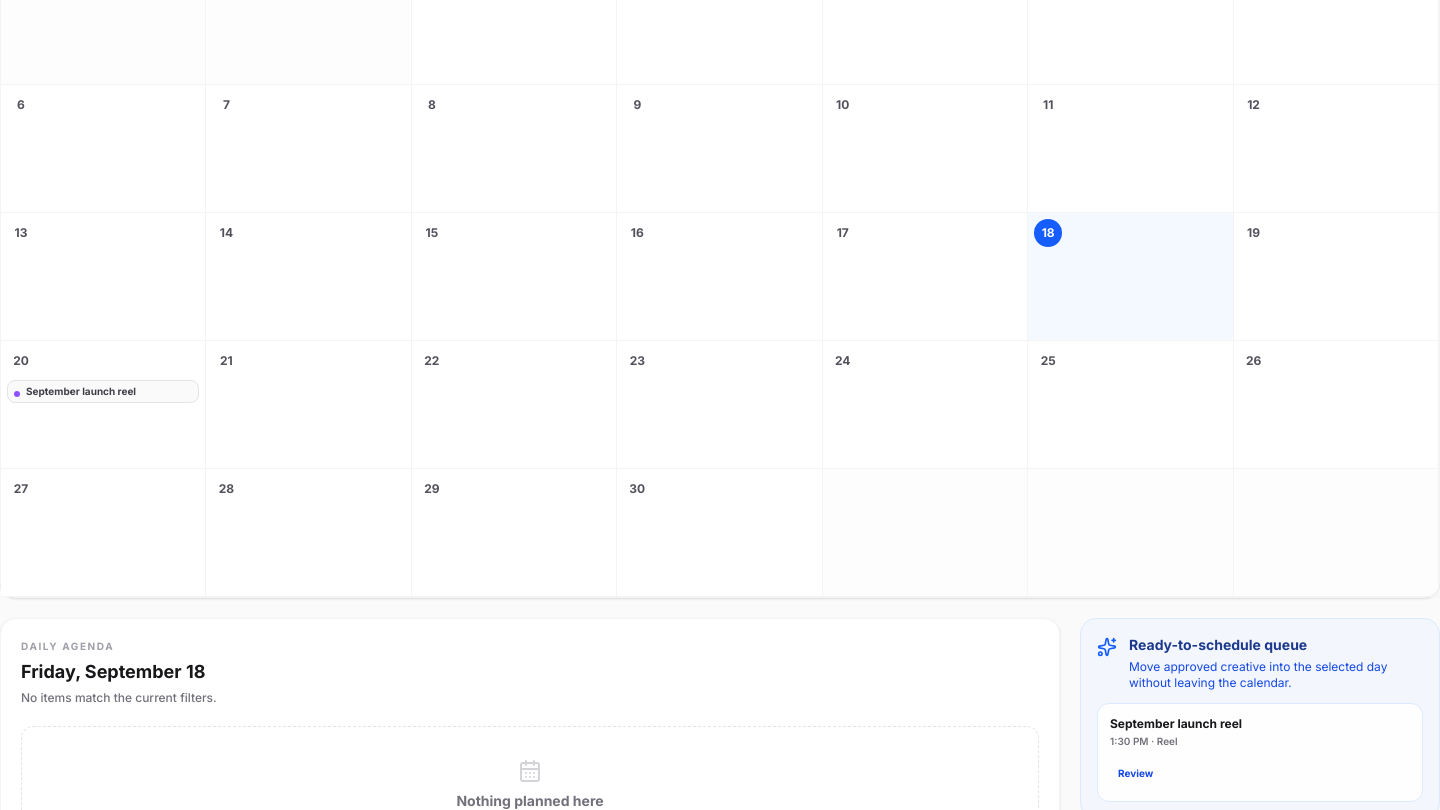
Test case: CalendarView › moves the agenda to the day an operator selects in the month grid
(page scrolled)
Click the cell named "Show agenda for Sunday, September 20, 2026" at (104, 405), box [1, 341, 206, 469]
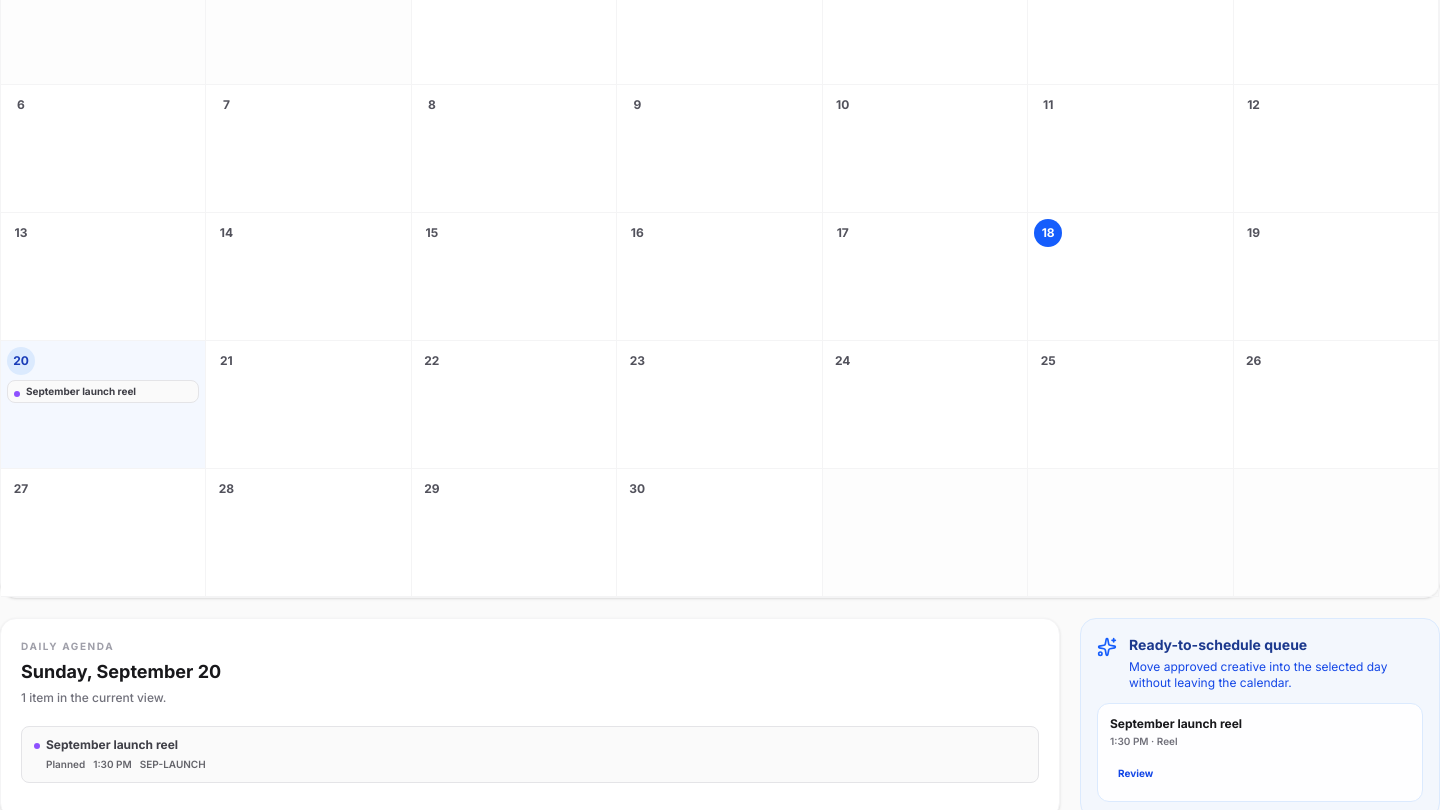
expect the heading "Sunday, September 20" is shown: met, box [21, 658, 221, 686]
